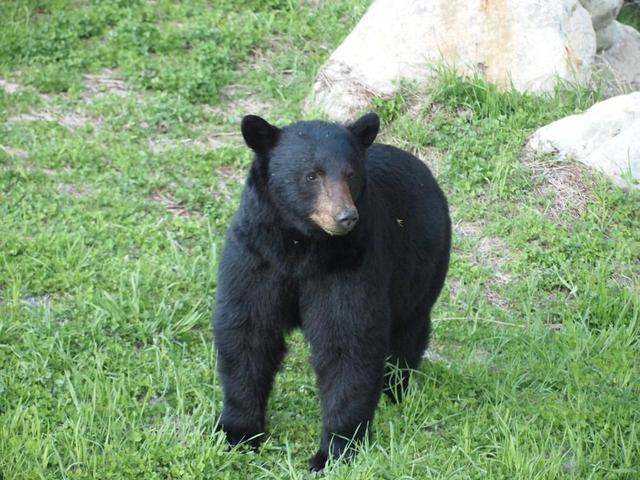Bear: (198, 95, 464, 466)
